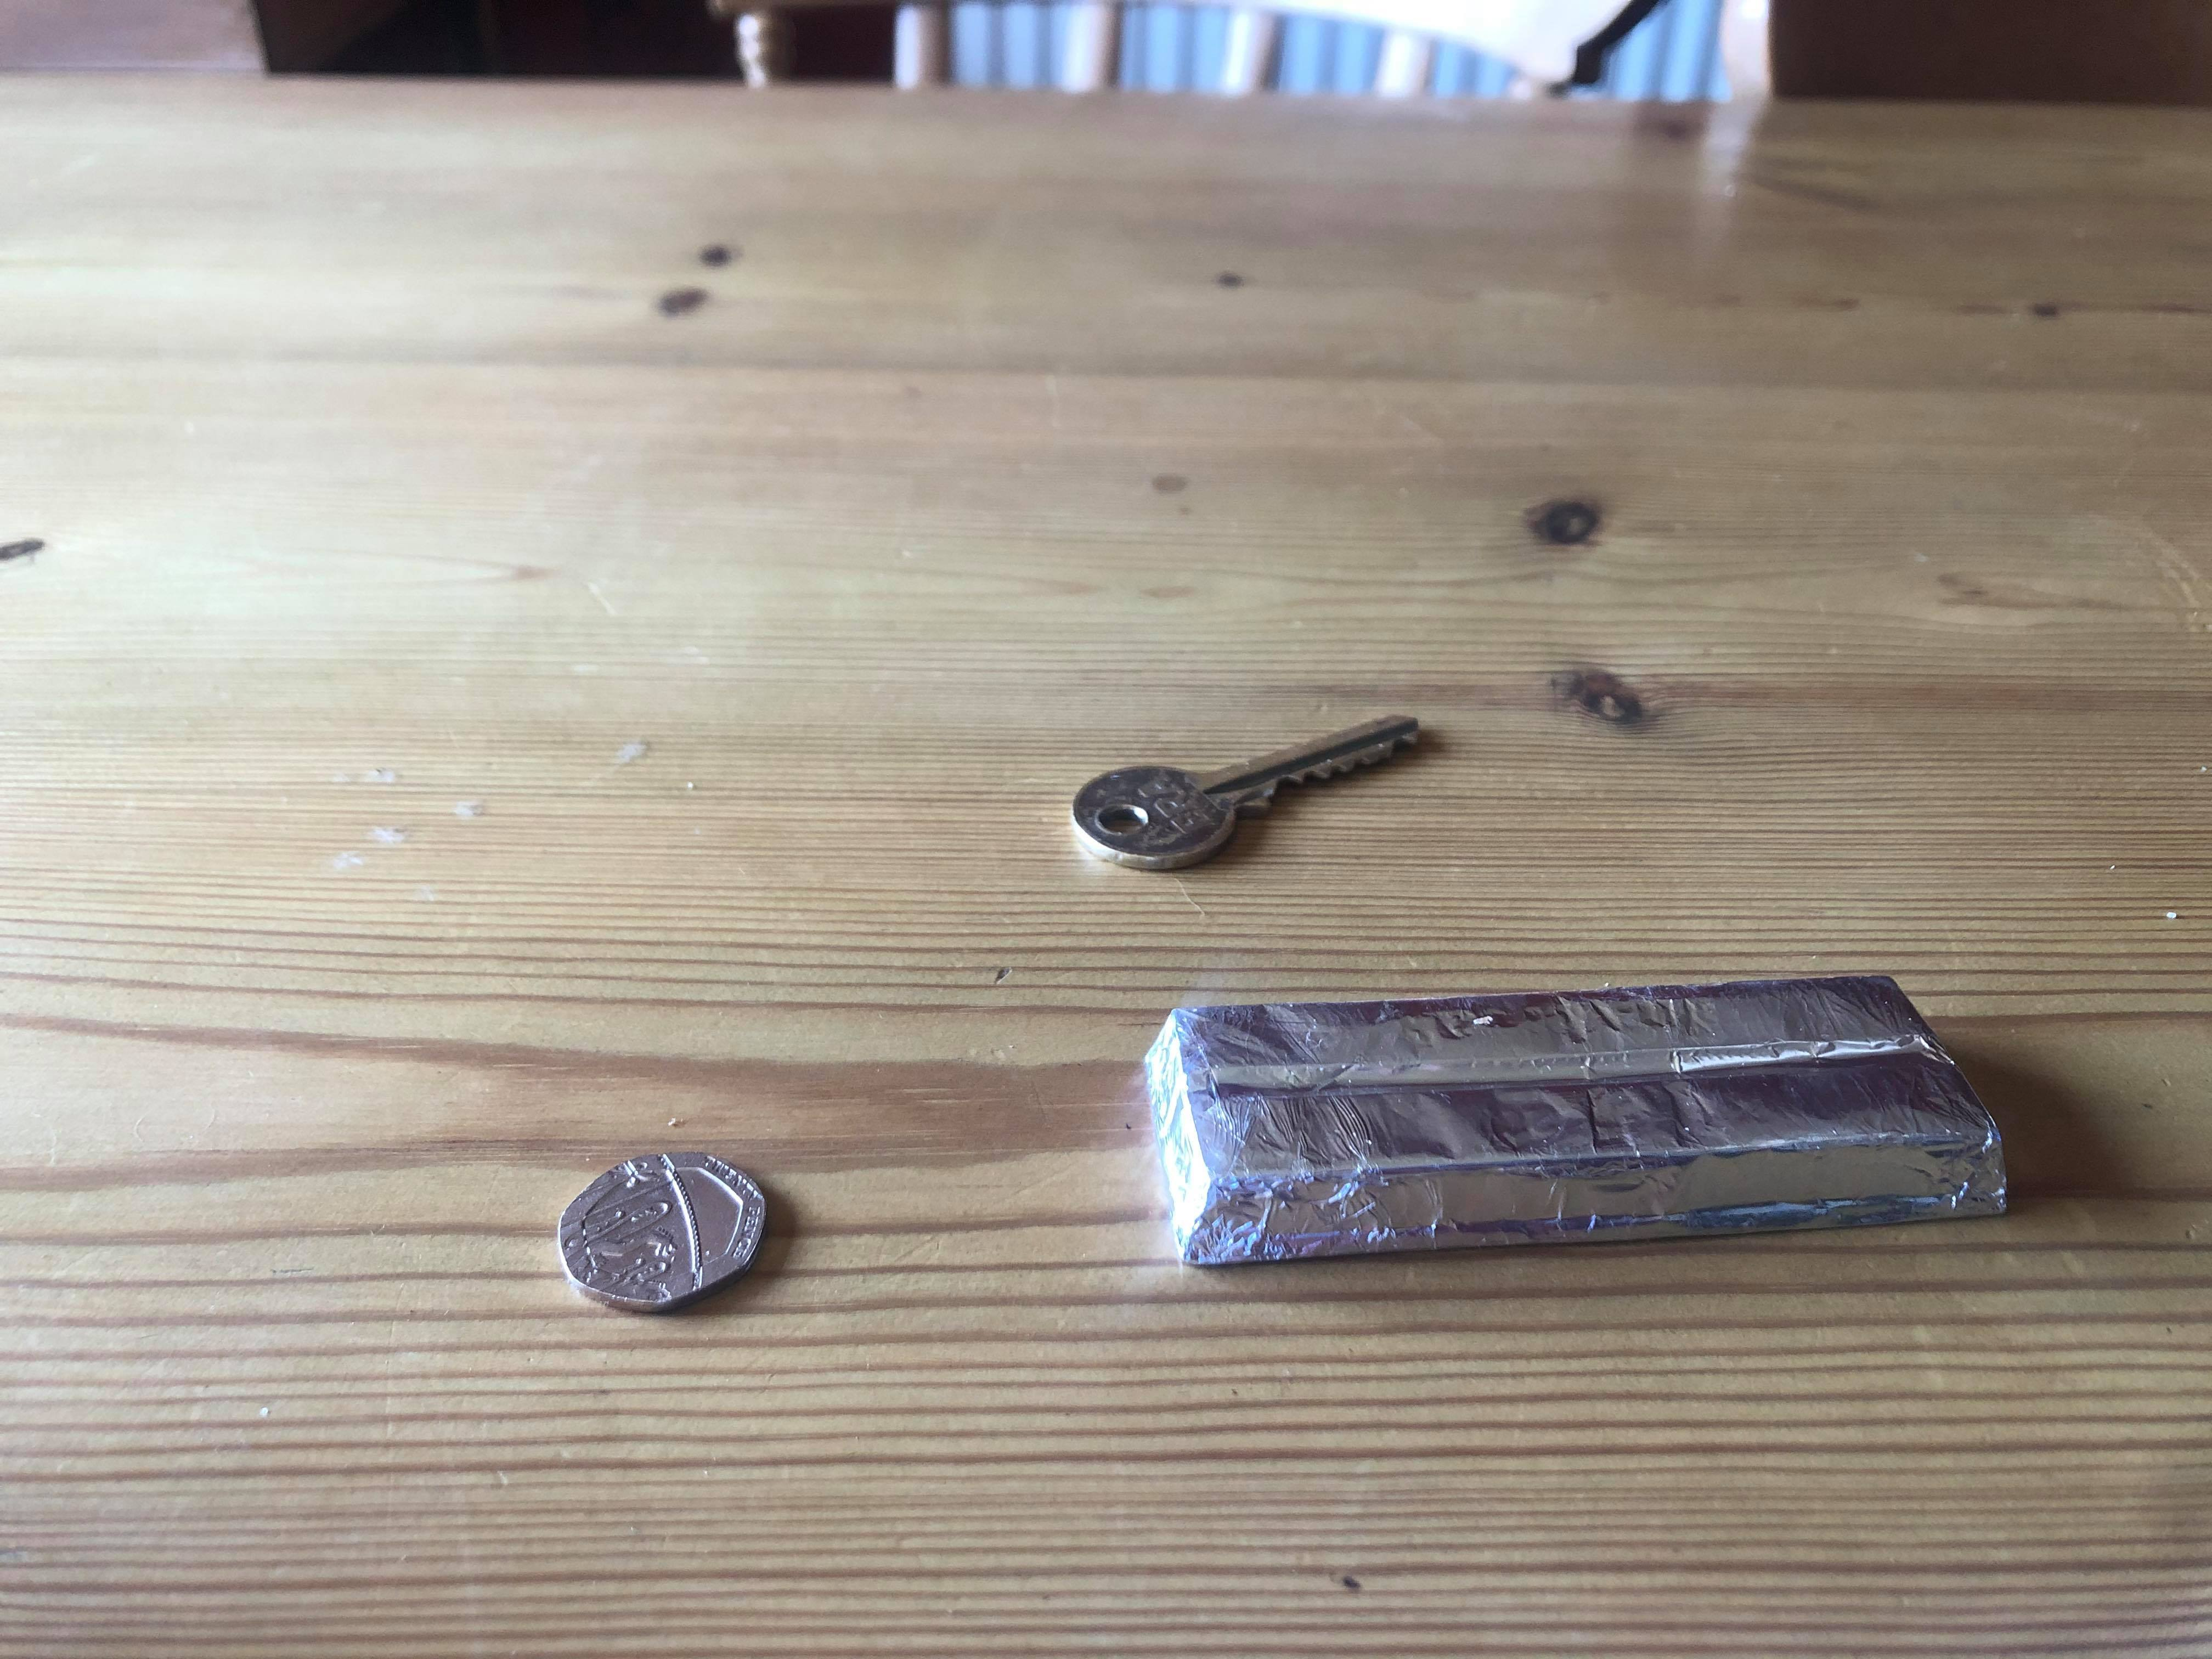Coin: (543, 1148, 773, 1321)
Foil: (1130, 967, 2020, 1279)
Key: (1064, 706, 1426, 880)
